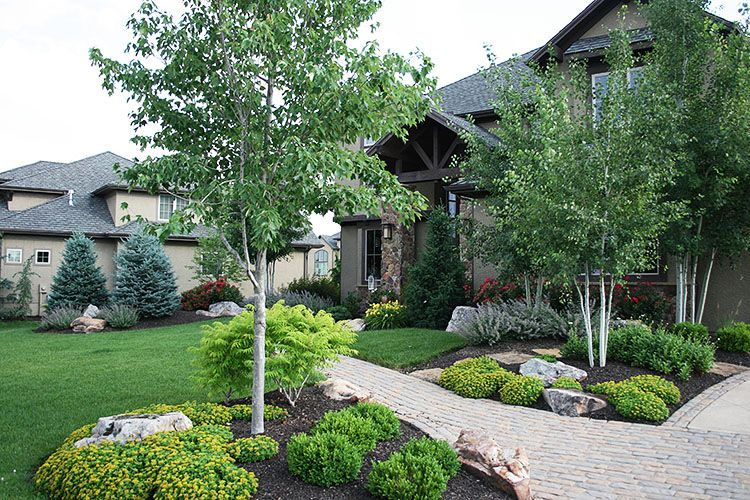tree: (88, 1, 418, 431), (480, 56, 694, 367)
